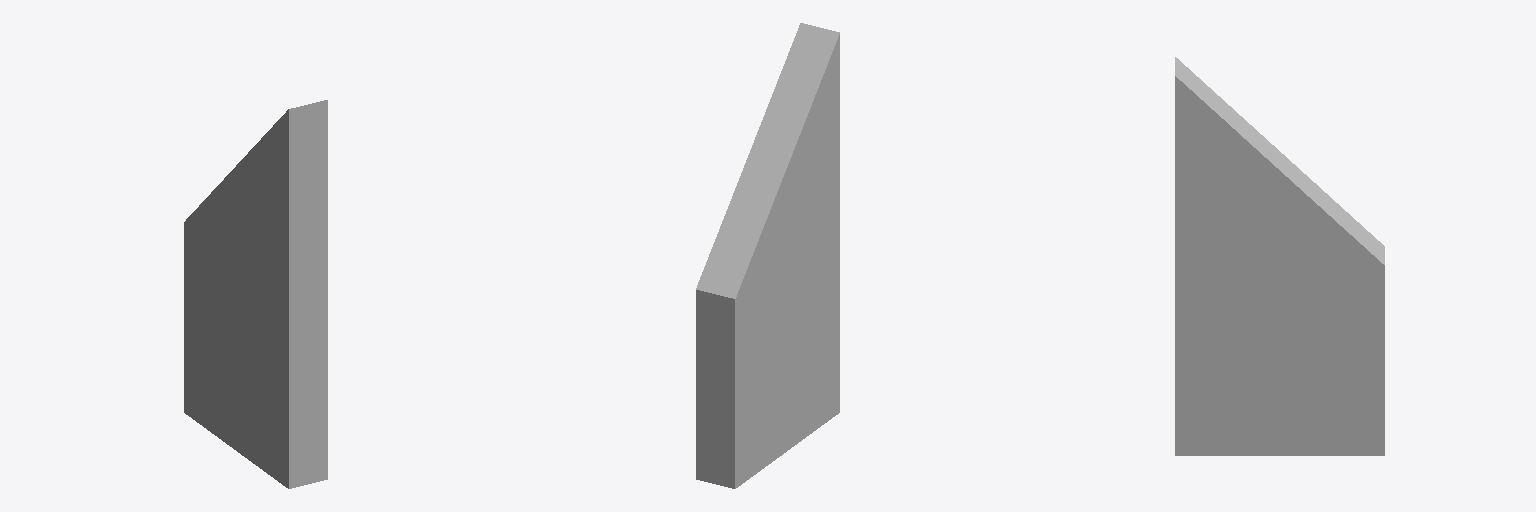
File: righttrianglewsq.obj
3 renders of one model, left to right at view 1: azimuth 30°, elevation 25°; view 2: azimuth 150°, elevation 25°; view 3: azimuth 270°, elevation 25°, orthographic.
Parts seen in each view (by area): view 1: Cube; view 2: Cube; view 3: Cube.
Part boxes in pixels (left/top/right/bottom): Cube: left=184, top=100, right=327, bottom=488; Cube: left=696, top=23, right=839, bottom=488; Cube: left=1175, top=57, right=1384, bottom=455.
Size of the model in its own units: 0.4374 by 4 by 2.